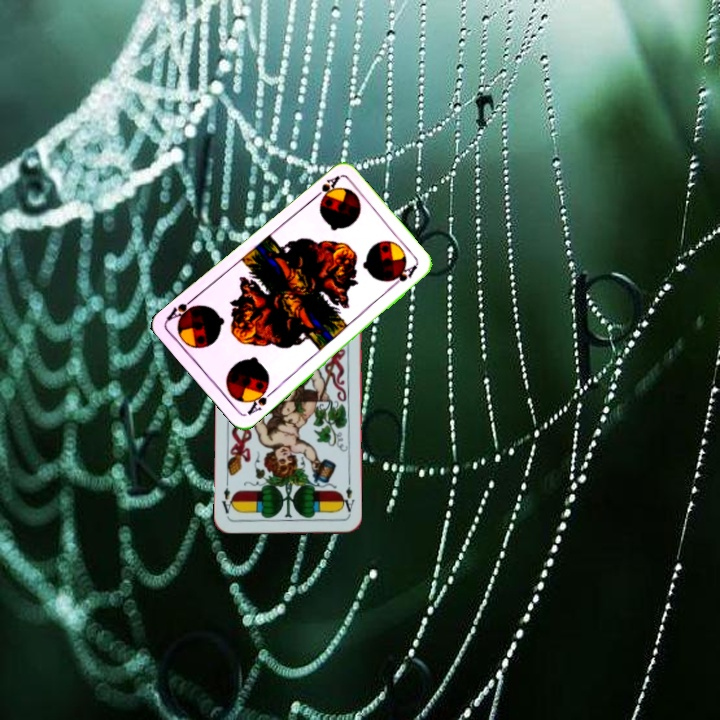EA: (338, 478, 357, 518)
SA: (243, 382, 277, 418), (308, 171, 342, 204)
